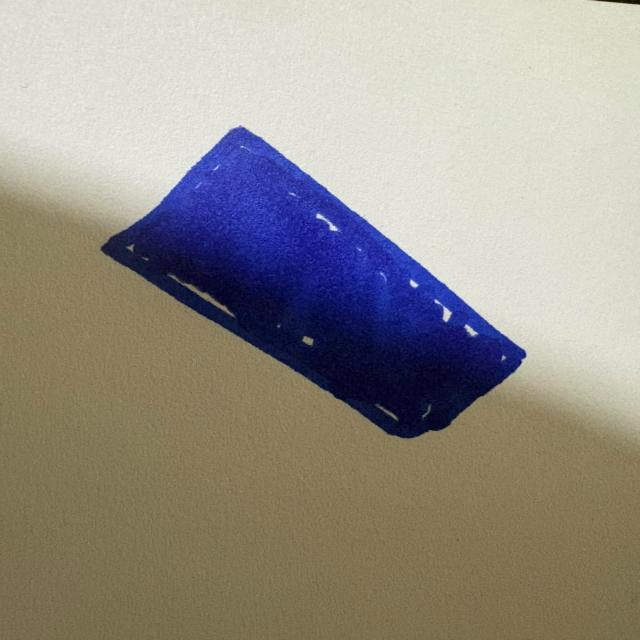Rectangle: (101, 127, 526, 438)
